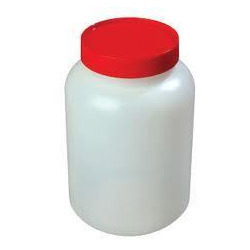Rec_Plastic: (56, 15, 197, 237)
